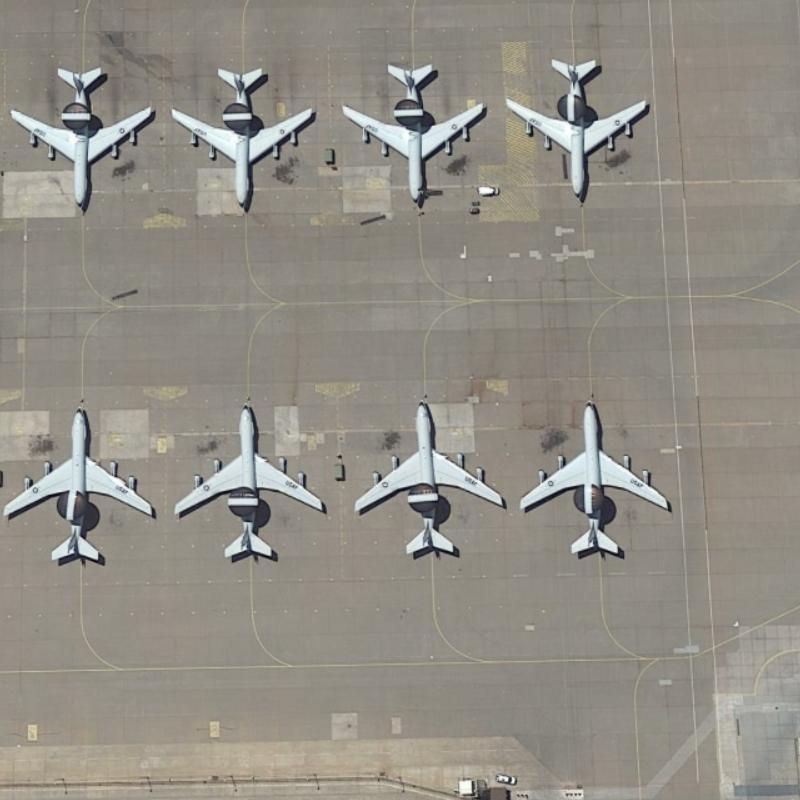A7: (516, 393, 674, 561), (3, 401, 164, 565), (350, 399, 513, 560), (173, 403, 330, 561), (9, 55, 164, 215), (164, 63, 320, 217), (498, 50, 654, 204), (337, 56, 490, 206)
